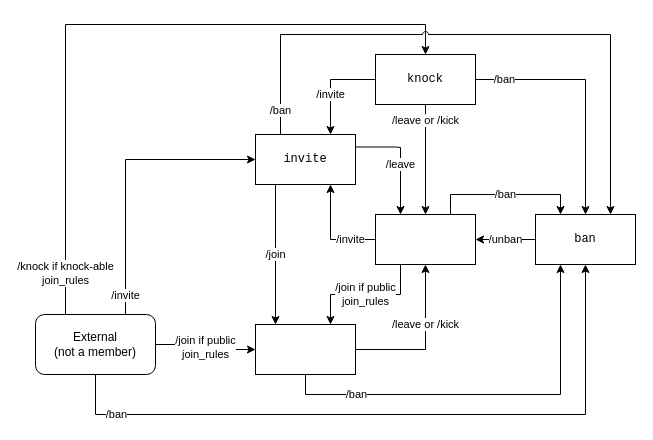
Image size: 653x440. Some labels were removed from this diagram. The box of each missing label's shape, as (x1, y1, x2, y2) in pixels:
join: (254, 324, 356, 374)
leave: (374, 214, 476, 264)
